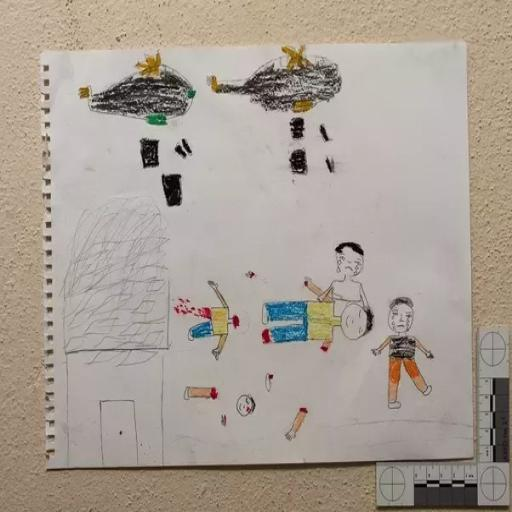person: (368, 284, 448, 425), (253, 273, 382, 359), (316, 236, 384, 298)
